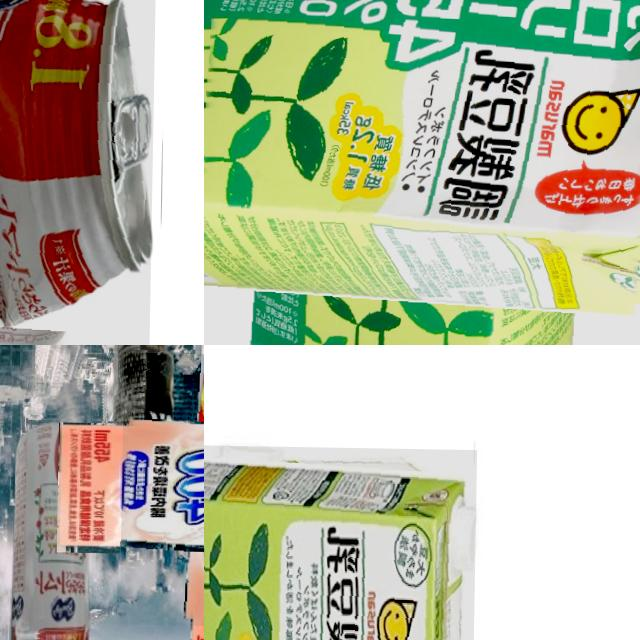Aluminium Foil: (204, 0, 640, 345), (204, 443, 475, 640), (118, 351, 204, 628)
Can: (0, 0, 155, 345), (6, 417, 95, 640), (104, 345, 181, 510)
